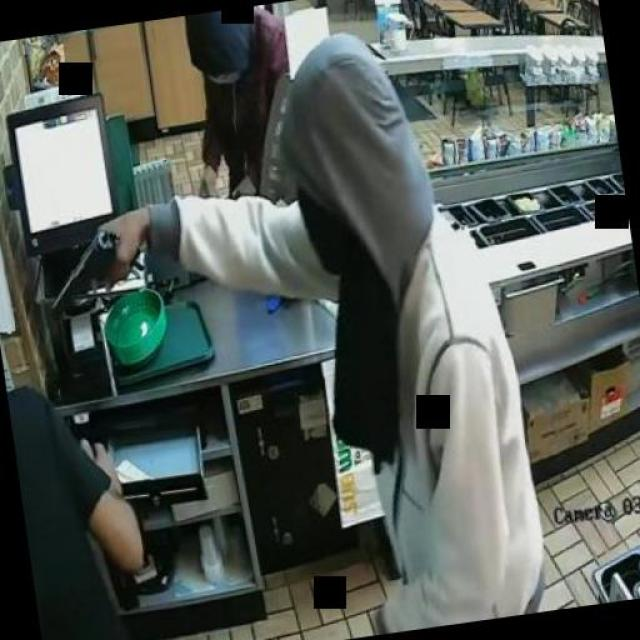gun: (36, 218, 142, 318)
